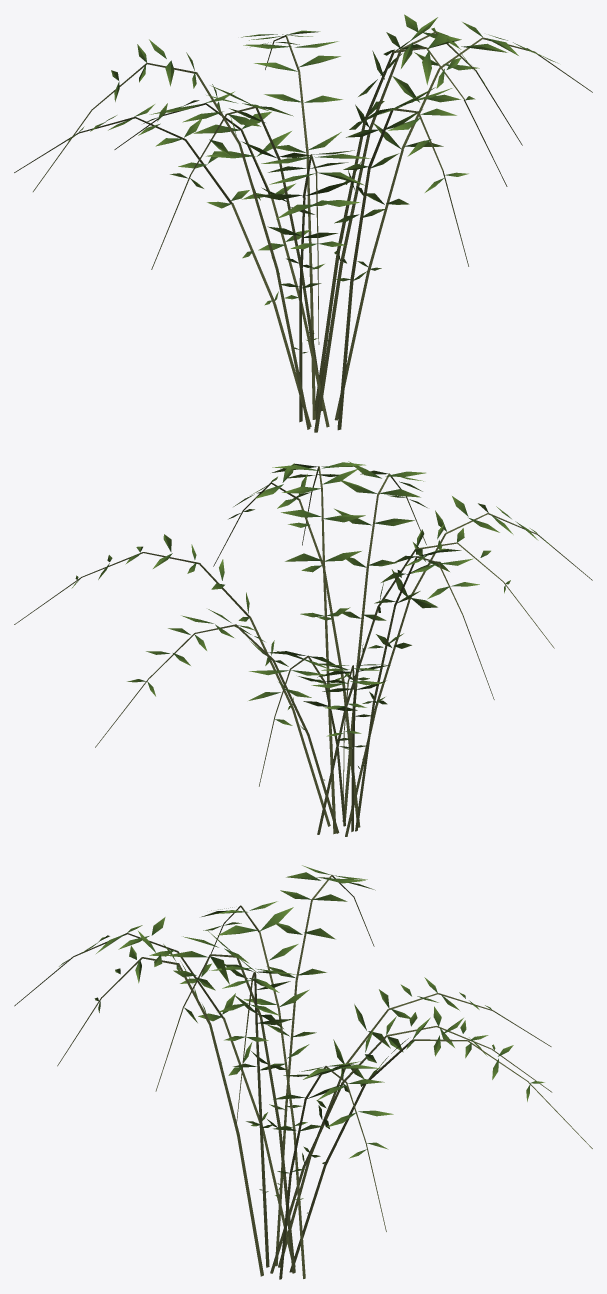
File: forest_fern_001_c_LOD3.gltf
3 views of the same model, one above another, from view 1: azimuth 30°, elevation 25°; view 2: azimuth 150°, elevation 25°; view 3: azimuth 270°, elevation 25° (orthographic). The views are drawn at different scales.
Visible parts, largest first — view 1: forest_fern_001_c_LOD3; view 2: forest_fern_001_c_LOD3; view 3: forest_fern_001_c_LOD3.
Boxes of the visible parts, x1=… form: forest_fern_001_c_LOD3: x1=14, y1=14, x2=592, y2=432; forest_fern_001_c_LOD3: x1=14, y1=461, x2=592, y2=836; forest_fern_001_c_LOD3: x1=14, y1=865, x2=592, y2=1279.
Bounding box in the file's own units: 3.17 × 2.12 × 3.15.
1 material, 1 textured.
